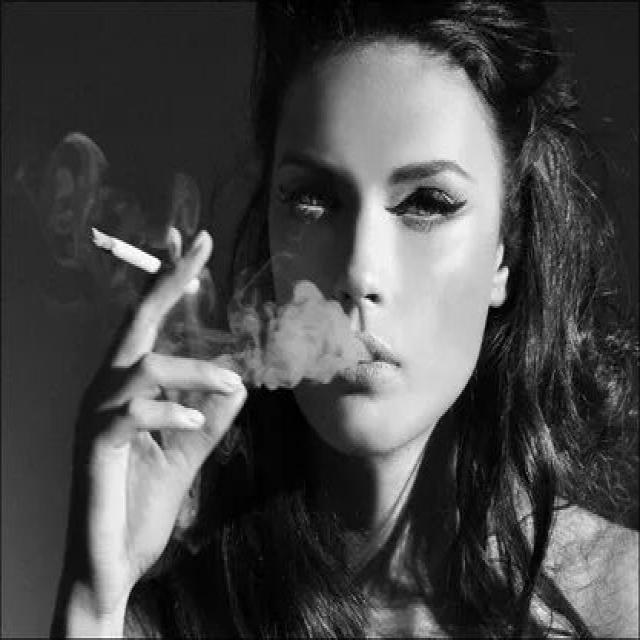cigarette: (84, 220, 188, 294)
